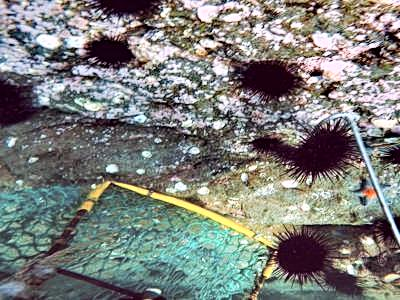urchin: (244, 60, 299, 101), (297, 130, 342, 178), (275, 231, 324, 273), (4, 80, 37, 126), (98, 0, 157, 23), (91, 38, 130, 67), (254, 137, 293, 158)
